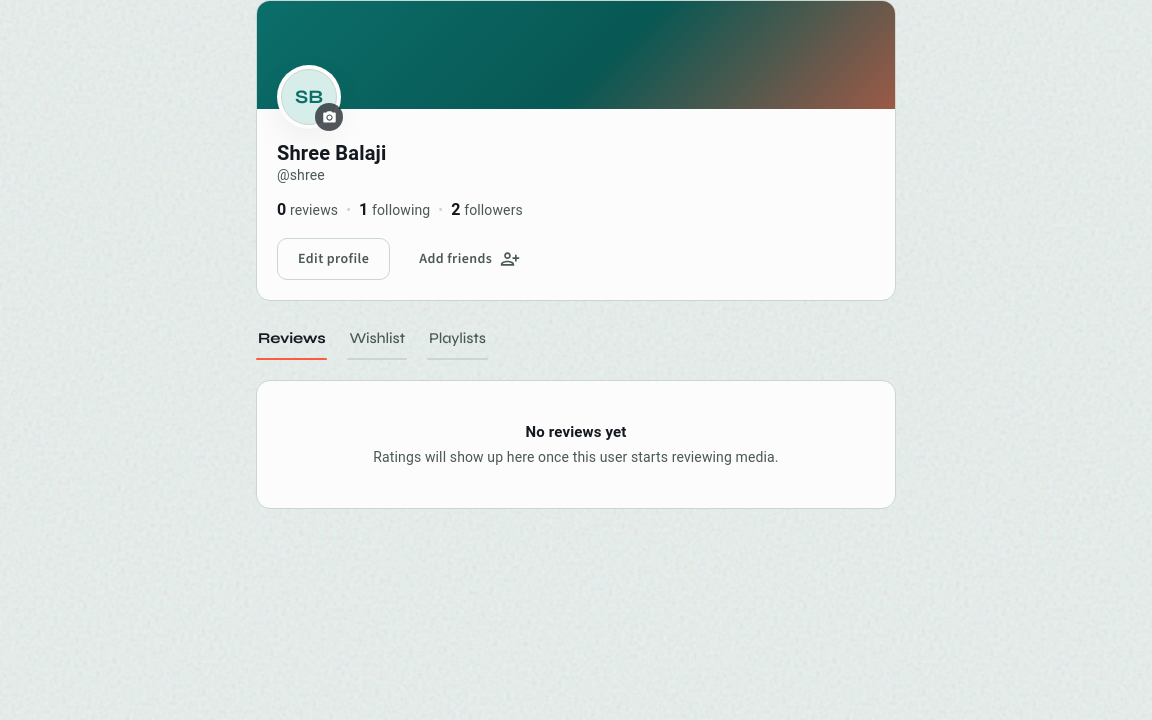
Test: Profile › switches to the Playlists tab and loads the user's playlists
Expected: the text "@shree" is shown, [277,167,325,183]
Click the button "Playlists" at (457, 338), box [427,317,488,360]
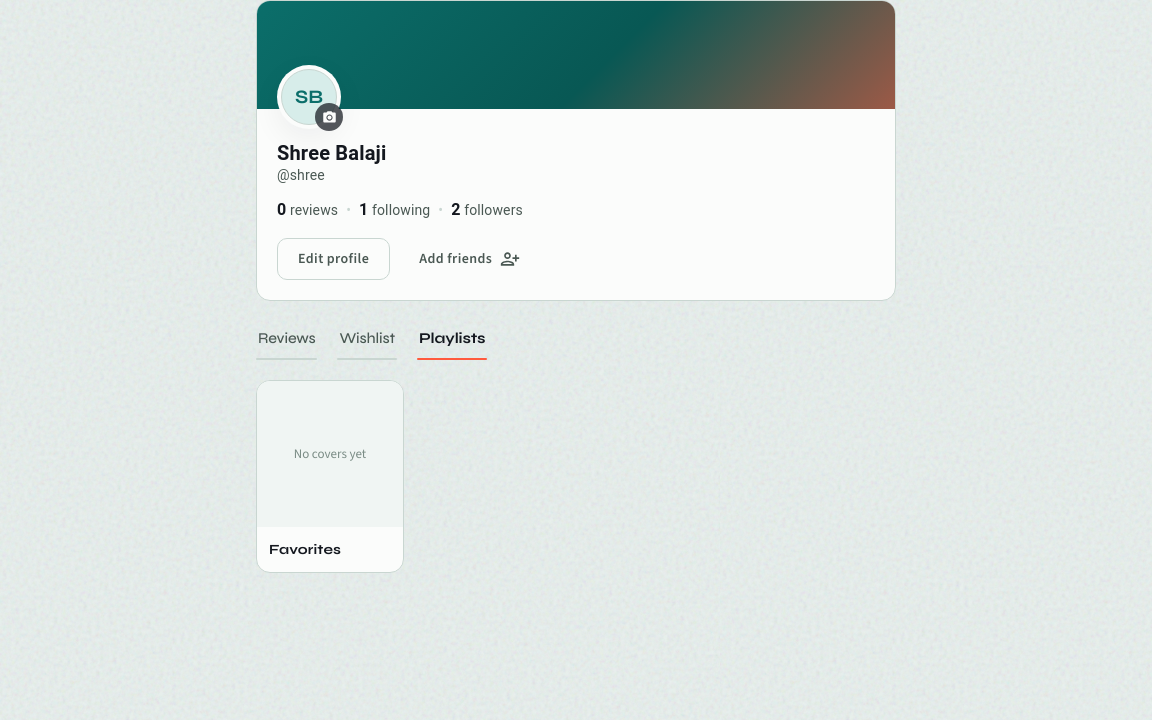
Now the text "Favorites" is shown, box [269,540,341,558]
